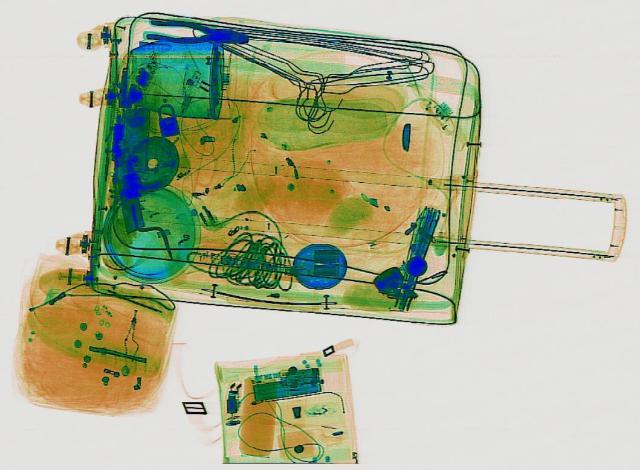Pliers: (145, 17, 251, 47)
